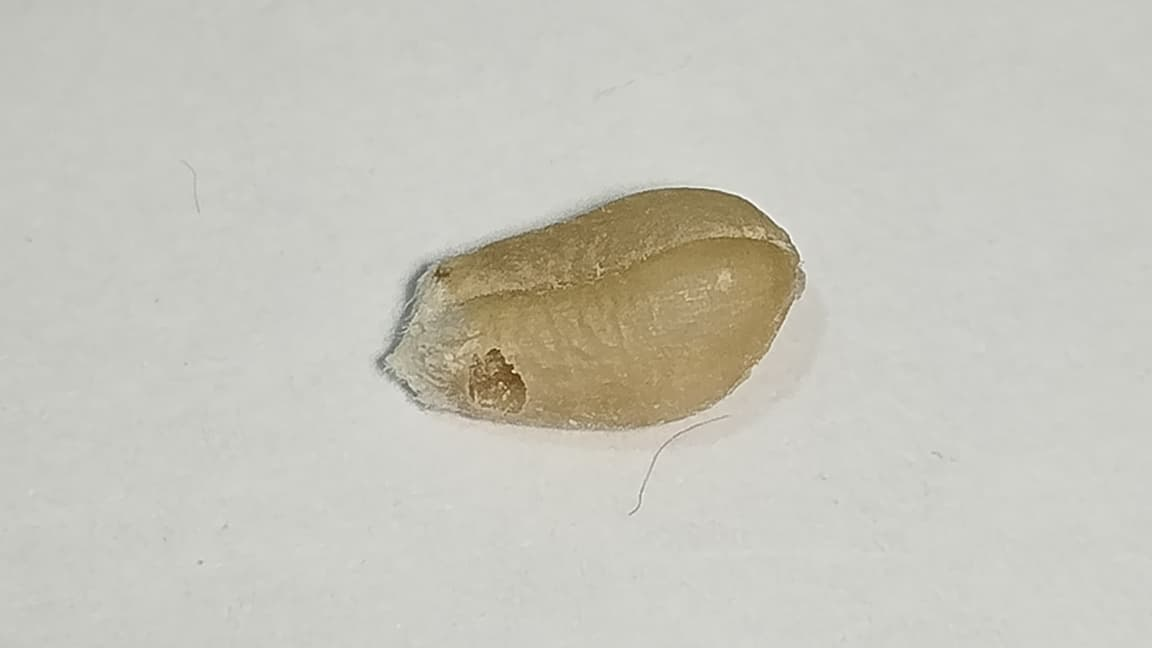damage: (393, 187, 801, 429)
insectdamage: (444, 302, 584, 428)
